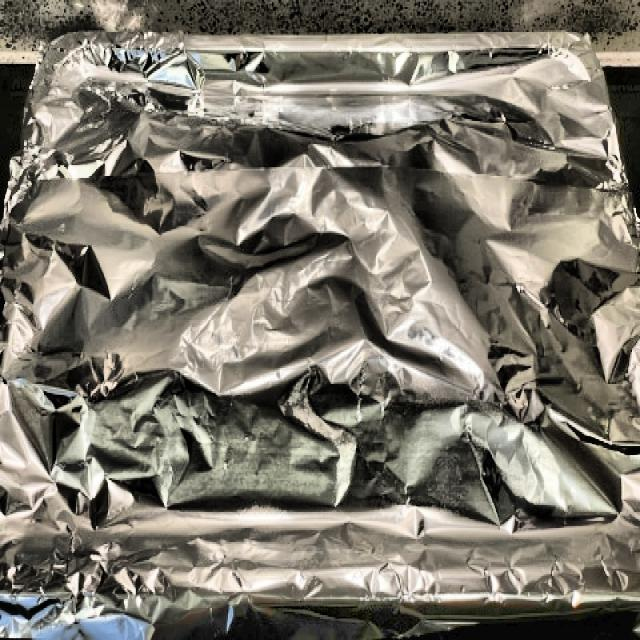Foil: (0, 22, 640, 640)
